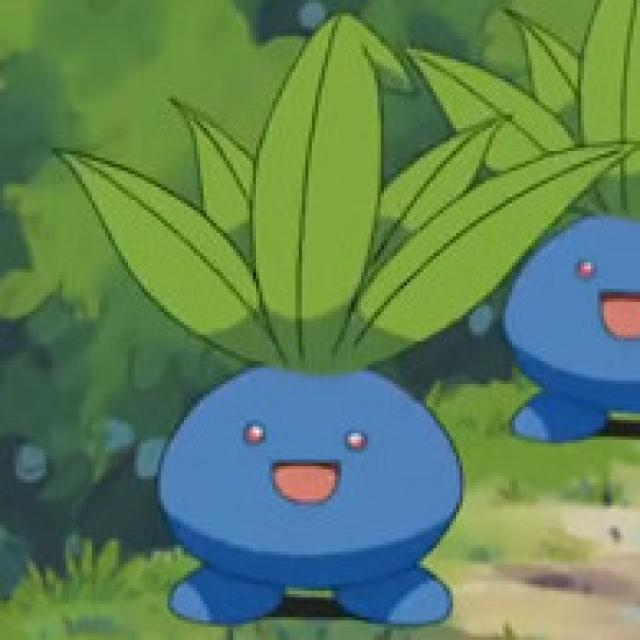Oddish: (158, 157, 458, 621), (496, 13, 640, 446)
